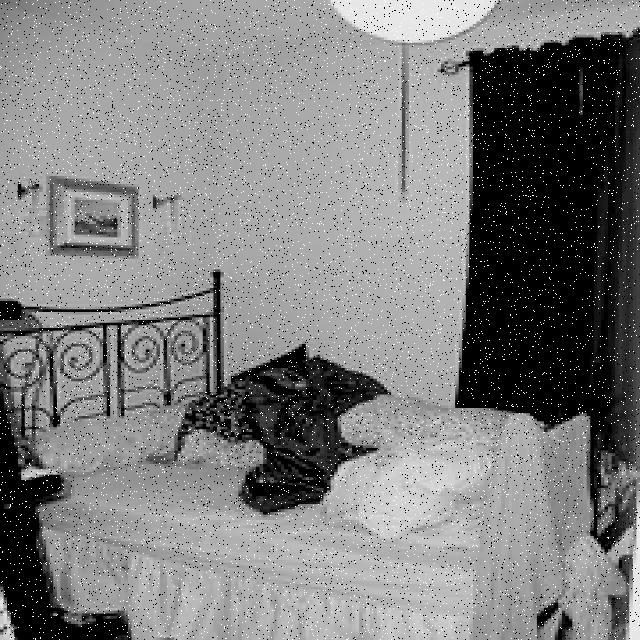bed: (25, 344, 640, 640)
